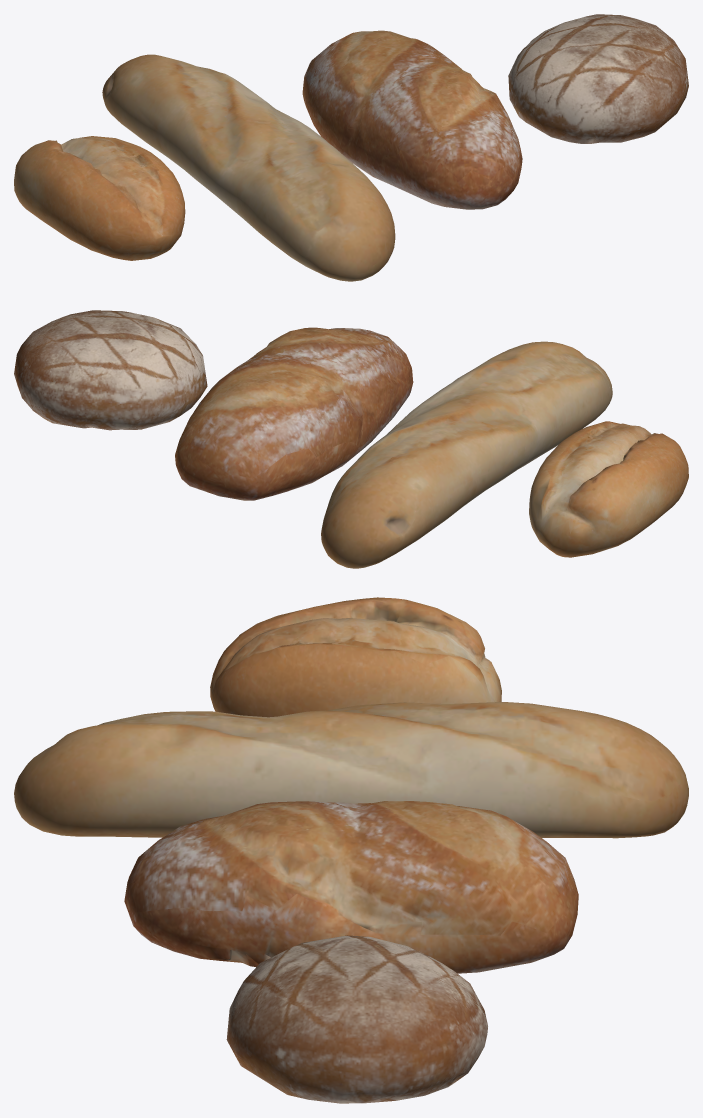
File: bread pack.glb
3 views of the same model, one above another, from view 1: azimuth 30°, elevation 25°; view 2: azimuth 150°, elevation 25°; view 3: azimuth 270°, elevation 25° (orthographic). The views are drawn at different scales.
Parts seen in each view (by area): view 1: bread.002, bread.003, bread.001, bread; view 2: bread.002, bread.003, bread.001, bread; view 3: bread.002, bread.003, bread.001, bread.
Part boxes in pixels (left/top/right/bottom): bread.002: left=102, top=54, right=395, bottom=281; bread.003: left=302, top=30, right=522, bottom=209; bread.001: left=508, top=14, right=688, bottom=143; bread: left=14, top=136, right=185, bottom=260; bread.002: left=321, top=341, right=612, bottom=568; bread.003: left=175, top=327, right=413, bottom=500; bread.001: left=14, top=310, right=207, bottom=430; bread: left=529, top=421, right=688, bottom=557; bread.002: left=14, top=702, right=688, bottom=838; bread.003: left=124, top=801, right=578, bottom=973; bread.001: left=226, top=935, right=487, bottom=1103; bread: left=210, top=597, right=501, bottom=717.
Bounding box in the file's own units: 0.6957 × 0.101 × 0.4633.
Materials: 4 (4 with a texture image).
